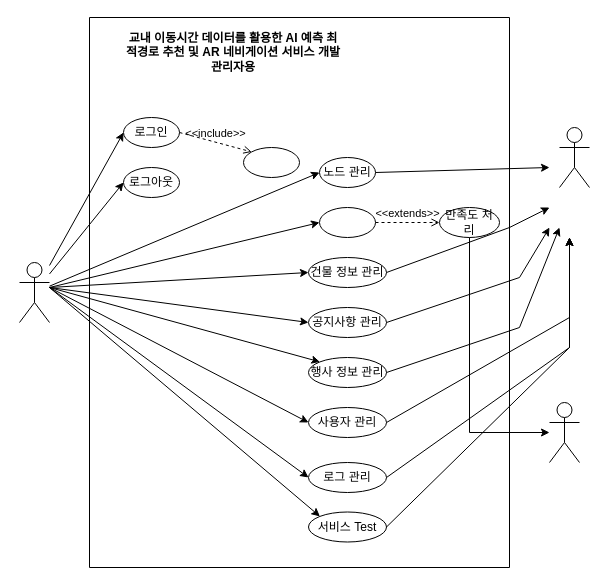
The diagram is 611 pixels wide and 585 high, and some of its shapes have lost their labels. The shapes that lost their labels are listed below. From the top down, each one's centre as x and y in pixels, then its label:
(x=271, y=162): 권한 인증
(x=574, y=157): Service Server
(x=347, y=222): AI 관리
(x=34, y=292): Admin
(x=564, y=432): AI Model
